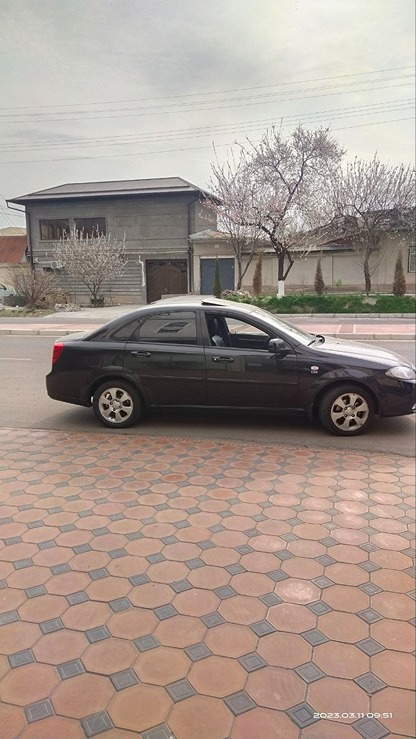car: (26, 280, 416, 439)
tree: (202, 122, 346, 283), (330, 160, 416, 280), (51, 218, 142, 293)
